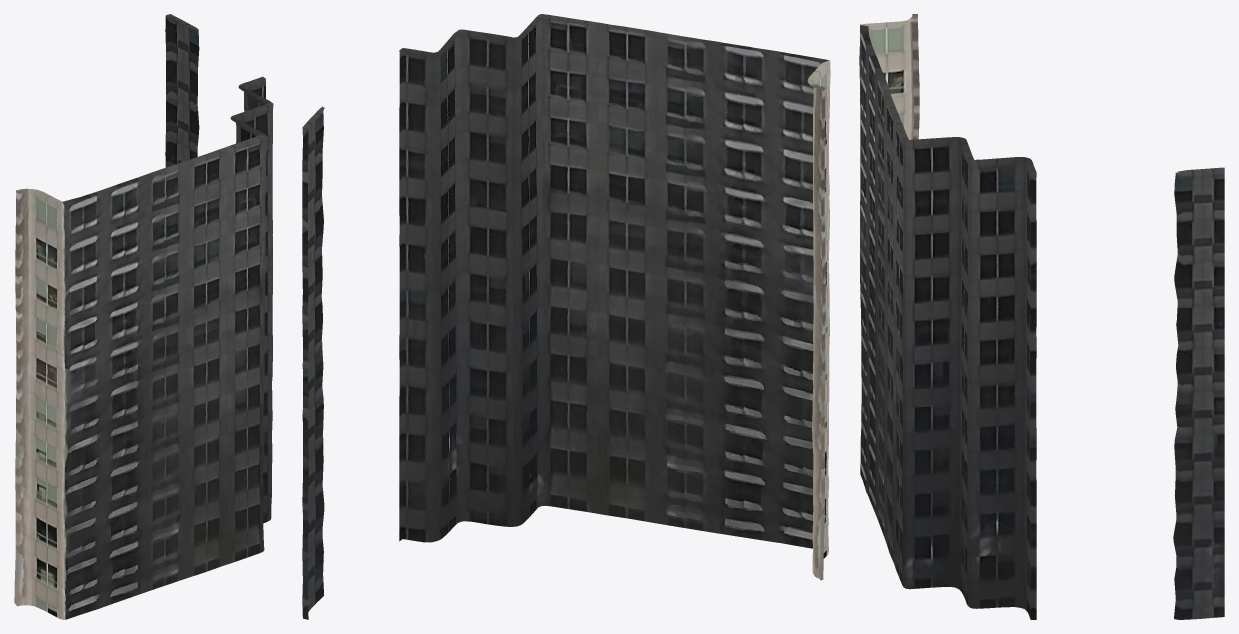
The model's file is z20-167763-405238-h1-yup-uvflip-v3-world.glb.
3 views of the same model, side by side, from view 1: azimuth 30°, elevation 25°; view 2: azimuth 150°, elevation 25°; view 3: azimuth 270°, elevation 25° (orthographic). The views are drawn at different scales.
Size of the model in its own units: 30.16 by 39.6 by 29.32.
Materials: 1 (1 with a texture image).
